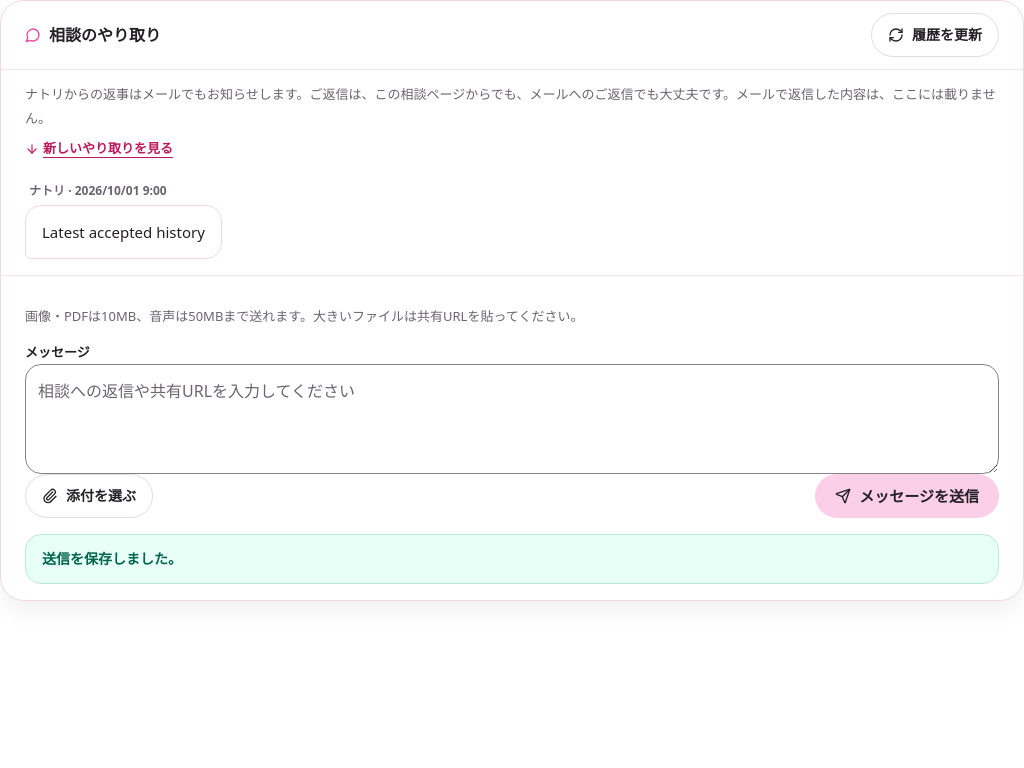
Scenario: consultation read loading ownership › fast committed restore and second GET release loading while initial GET is still deferred
Expected: the text "Latest accepted history" is shown, [42,222,205,242]
Type "Usable after accepted restore" into the text box at coordinates (512, 419), box [25,364,999,474]
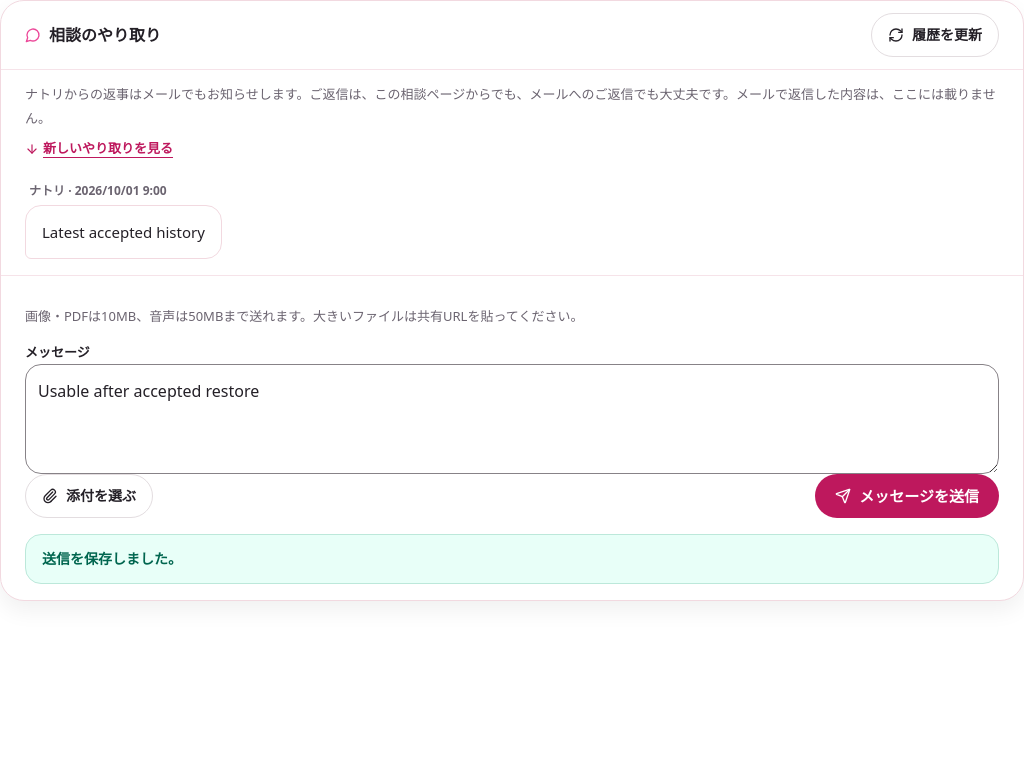
Expected: the text "Latest accepted history" is shown, [42,222,205,242]
Expected: the button "メッセージを送信" is enabled, [815,474,999,518]
